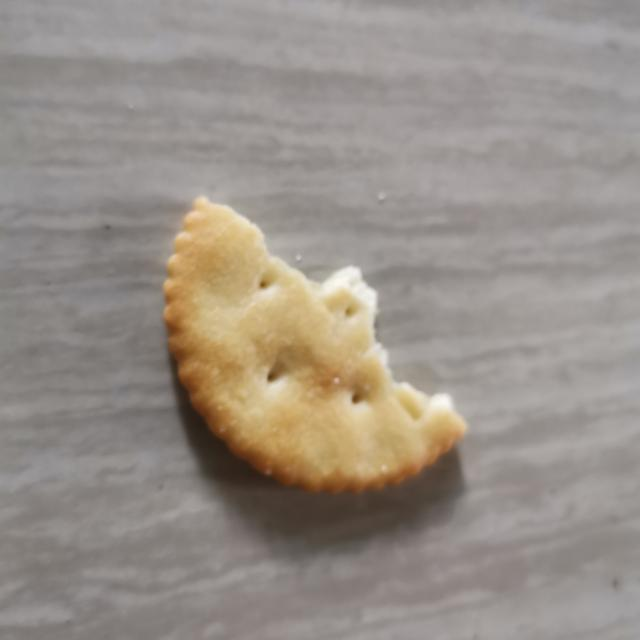Broken: (161, 194, 467, 494)
